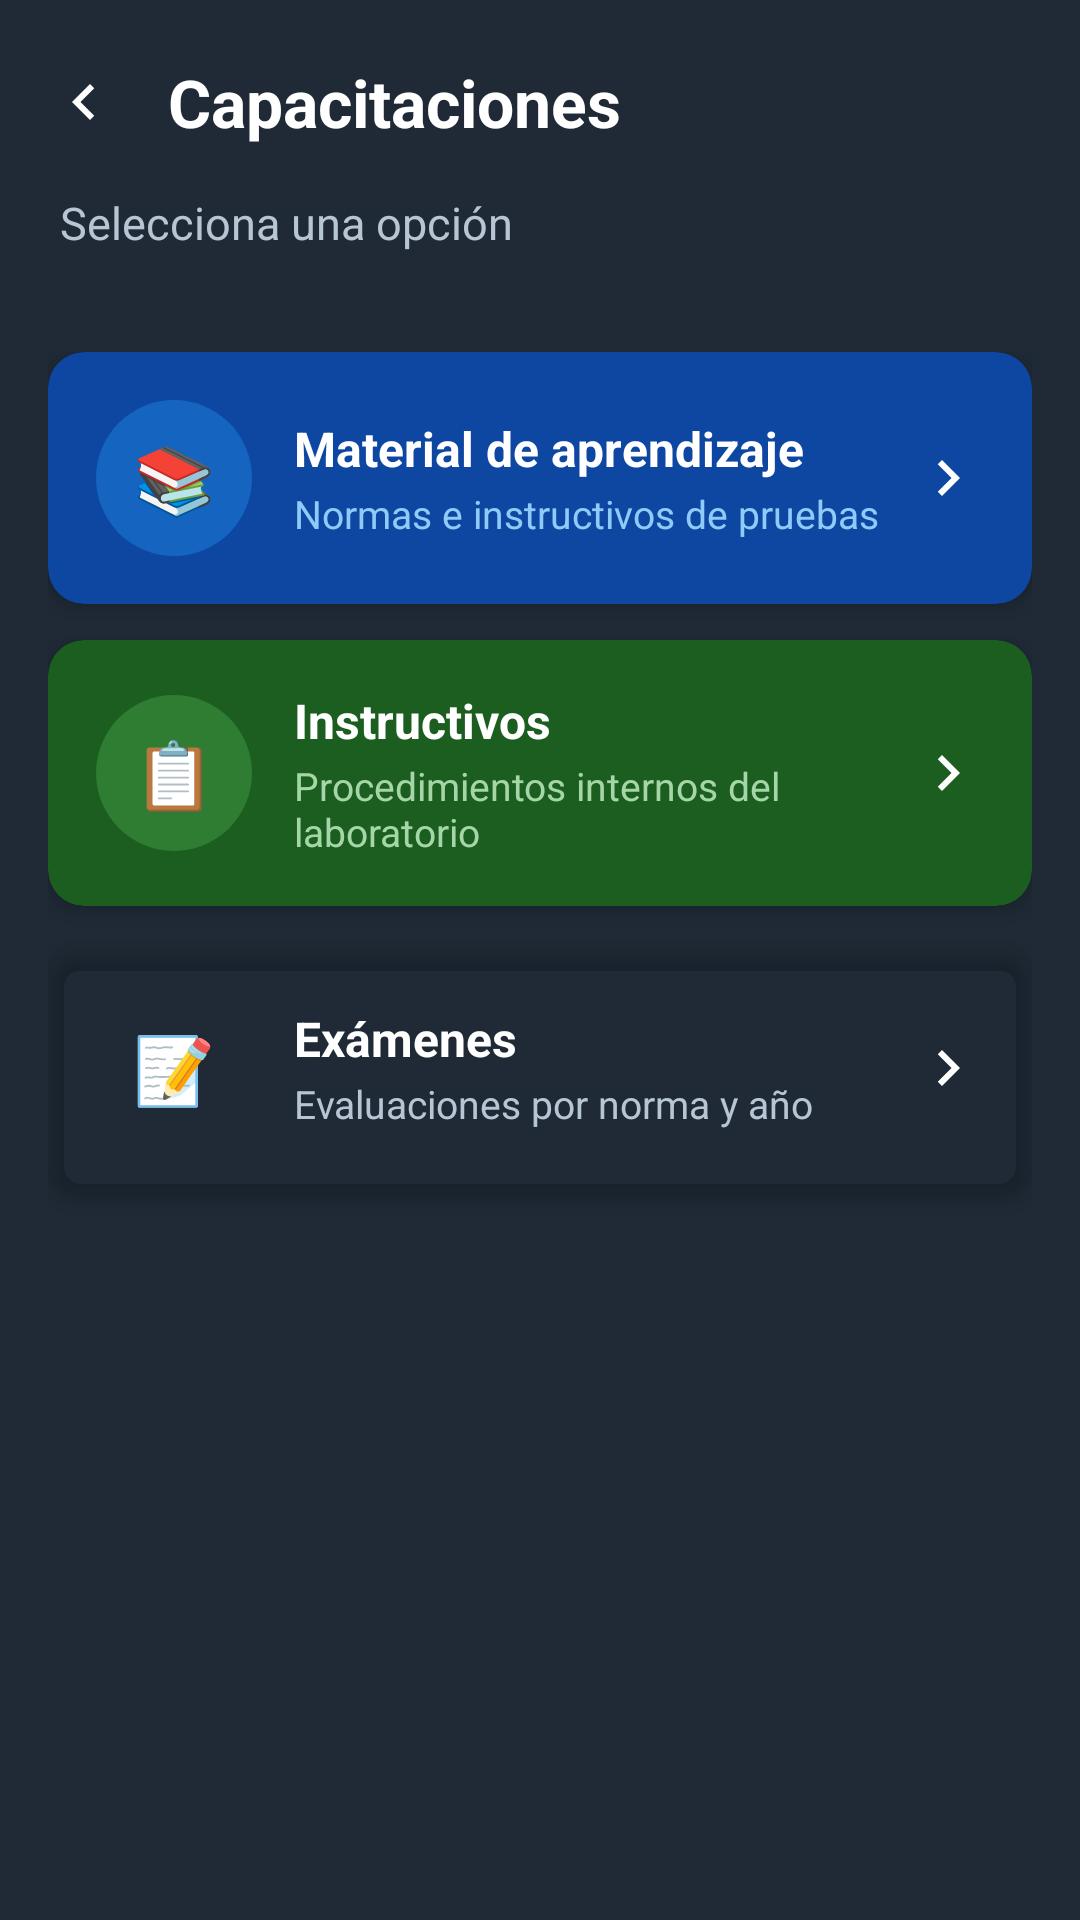

Where icons sit on this 1080px×1920px app screen, as (left=x1, top=y1, right=x2, bottom=y2):
chevron right: (left=938, top=460, right=960, bottom=496), (left=938, top=755, right=960, bottom=791), (left=938, top=1050, right=960, bottom=1086)
